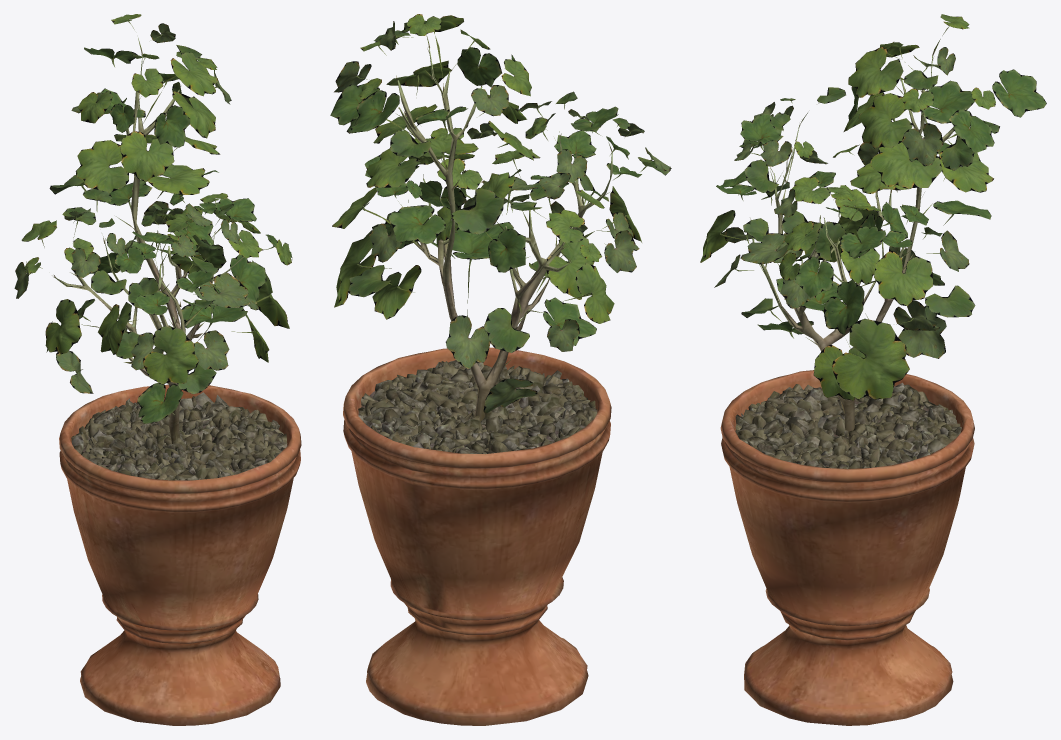
The model's file is potted_plant_01.glb.
The picture shows the model from 3 angles, left to right: view 1: azimuth 30°, elevation 25°; view 2: azimuth 150°, elevation 25°; view 3: azimuth 270°, elevation 25°; orthographic projection. The views are drawn at different scales.
Visible parts, largest first — view 1: potted_plant_01_stem, potted_plant_01_leaves; view 2: potted_plant_01_stem, potted_plant_01_leaves; view 3: potted_plant_01_stem, potted_plant_01_leaves.
Boxes of the visible parts, x1,y1,x2,y2 form: potted_plant_01_stem: [54, 54, 301, 725]; potted_plant_01_leaves: [14, 14, 292, 423]; potted_plant_01_stem: [343, 47, 612, 725]; potted_plant_01_leaves: [330, 14, 671, 413]; potted_plant_01_stem: [720, 55, 974, 725]; potted_plant_01_leaves: [700, 14, 1046, 400].
Size of the model in its own units: 0.5866 by 1.34 by 0.6336.
2 materials, 2 textured.
